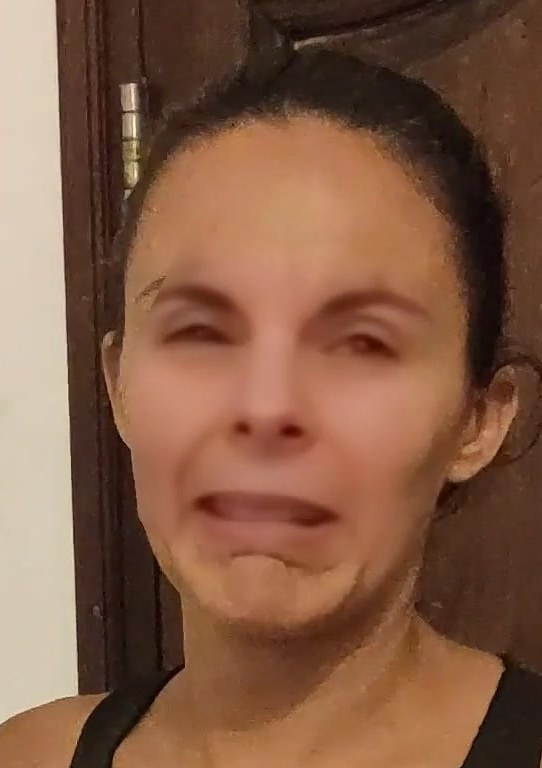eb_f: (123, 261, 433, 376)
